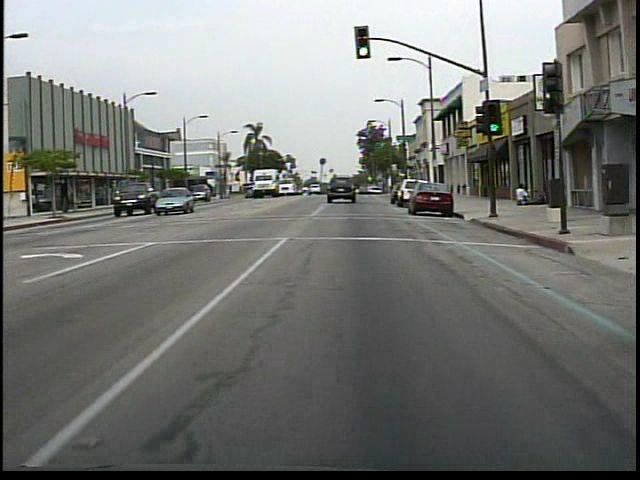person: (511, 183, 528, 208)
